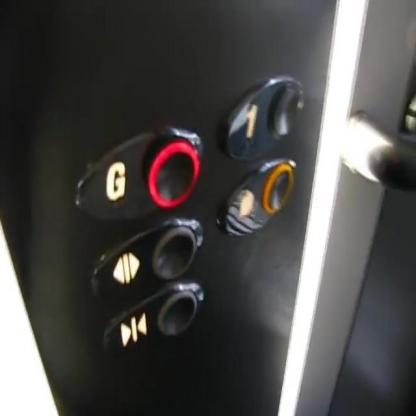1: (218, 71, 306, 161)
G: (73, 124, 203, 223)
alarm: (218, 155, 297, 241)
close: (100, 279, 204, 364)
open: (90, 213, 202, 303)
